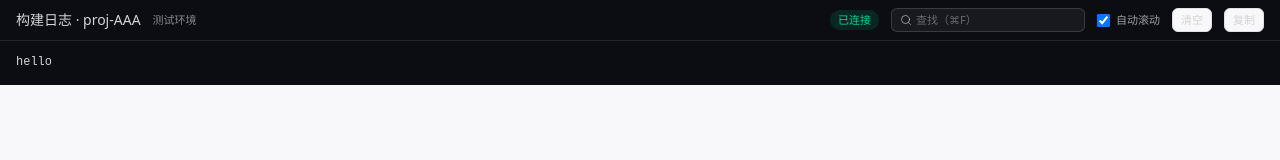
LogView 语法高亮与查找 › 没有命中时显示 0/0 且跳转按钮禁用
Type "不存在的东西" into the field with test id "log-search" at (996, 20), box [916,12,1076,28]
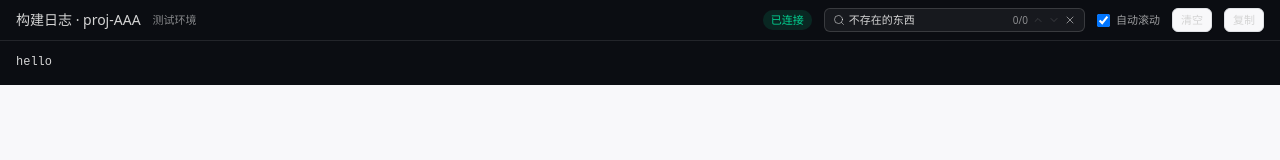
Now the text "0/0" is shown, box [1013,12,1028,28]
